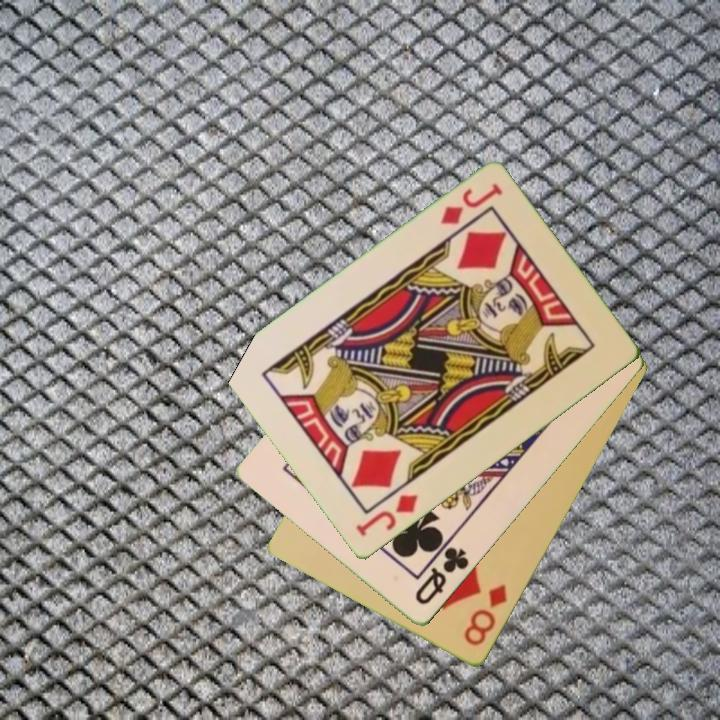8d: (460, 581, 511, 650)
Jd: (436, 180, 506, 229), (352, 491, 421, 540)
Qc: (411, 543, 473, 608)
